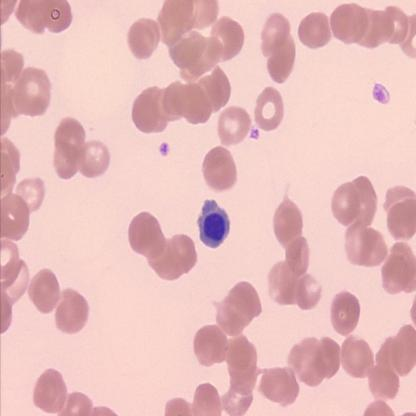NRC: (198, 198, 232, 250)
